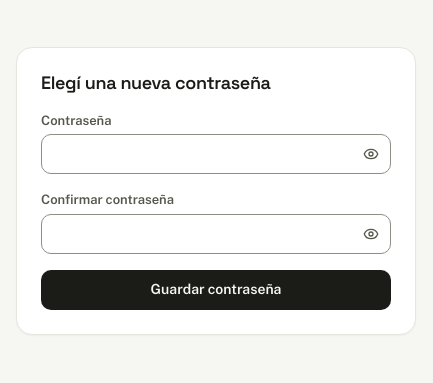
Test case: ResetPasswordPage — R1.3 › un error de updateUser se muestra y no redirige
In the password field labelled "Contraseña": (216, 154) top-left (41, 134), bottom-right (391, 174), type "password123"
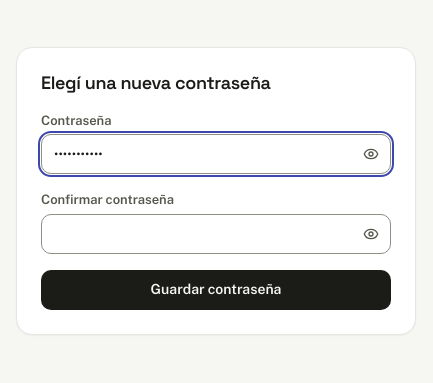
In the password field labelled "Confirmar contraseña": (216, 234) top-left (41, 214), bottom-right (391, 254), type "password123"
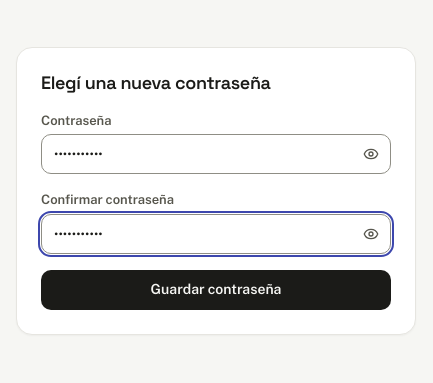
Click the button "Guardar contraseña": (216, 290) top-left (41, 270), bottom-right (391, 310)
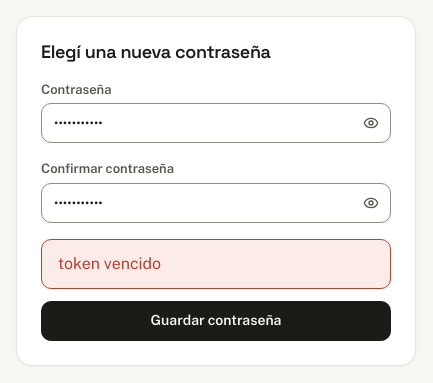
expect the message reads "token vencido": met, box top-left (58, 254), bottom-right (161, 273)
